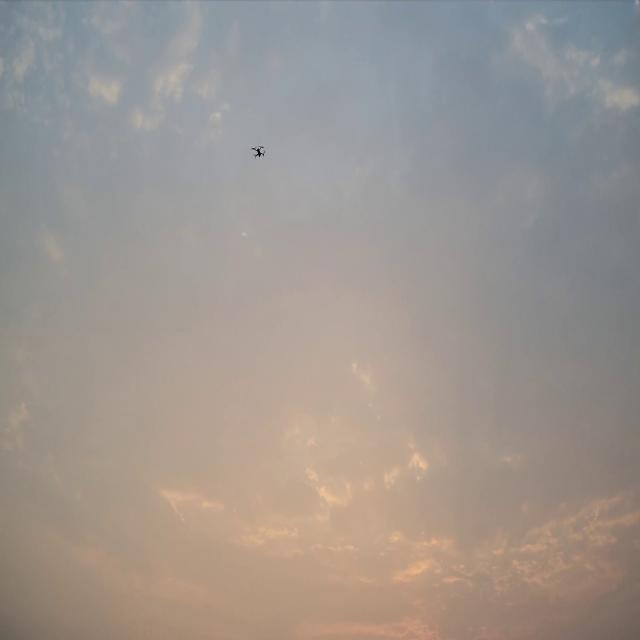UAV: (251, 144, 265, 158)
